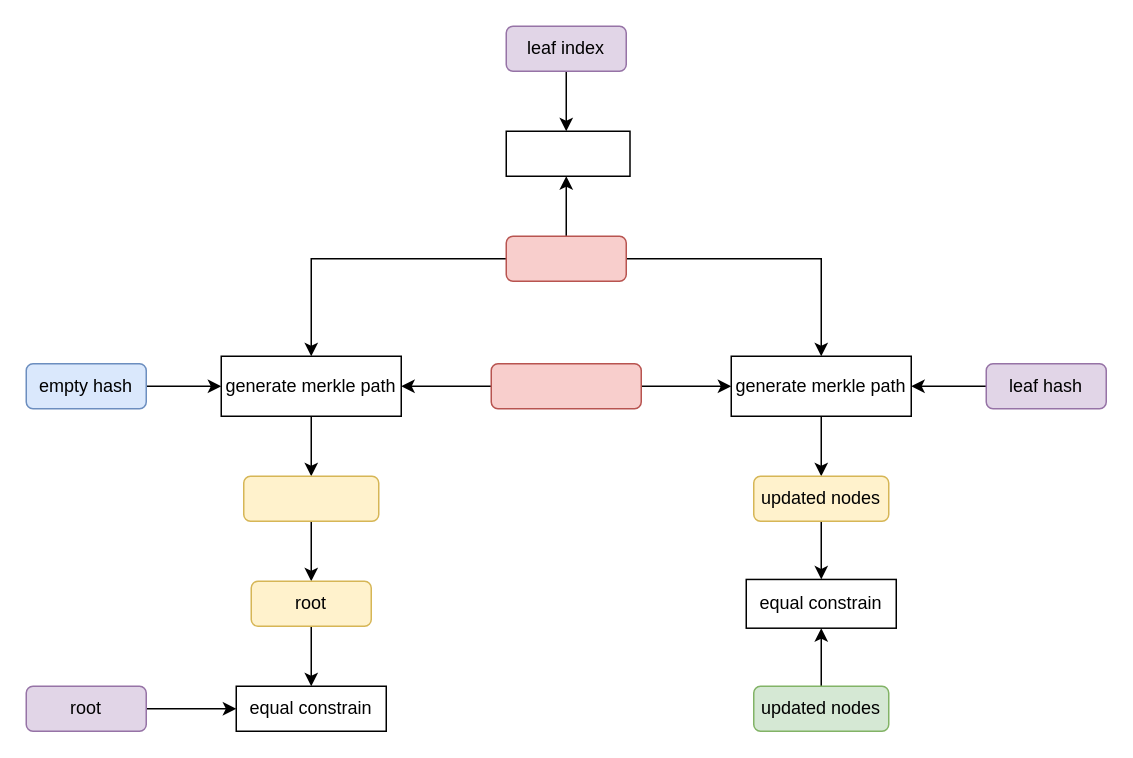
The diagram is 1133 pixels wide and 758 high, and some of its shapes have lost their labels. Here are the shapes that lost their labels. From the top down, the centre of each, then its label:
the point at 567,153: bits constrain
the point at 565,258: position array
the point at 565,385: neighbour nodes
the point at 310,498: merkle path
